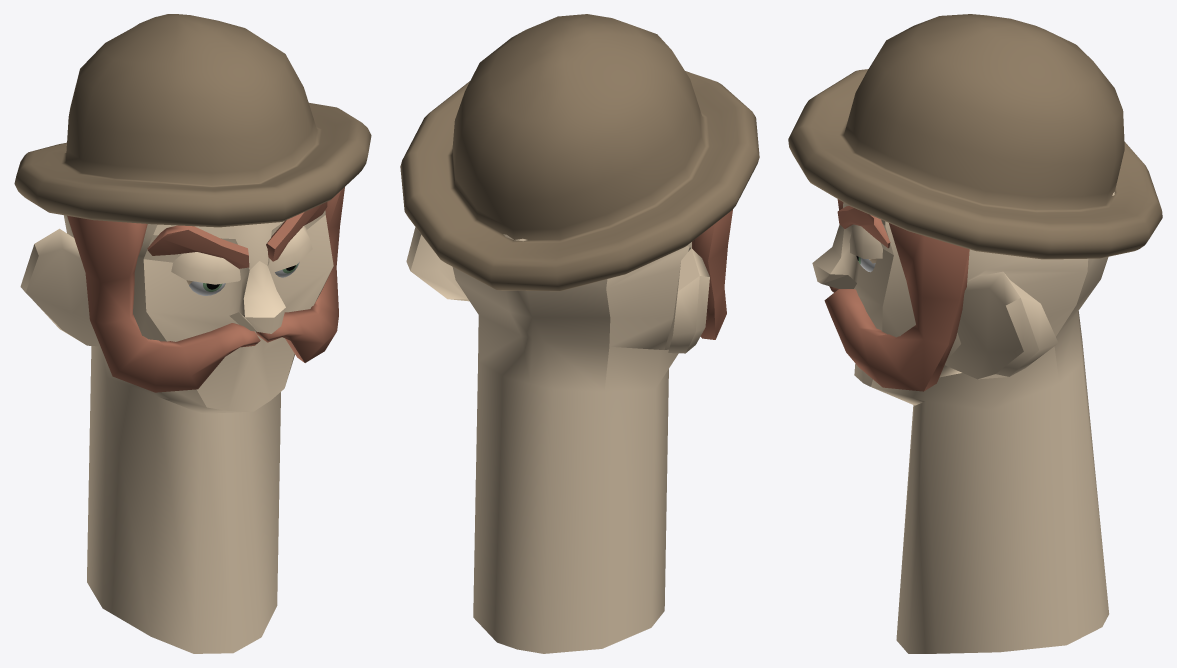
File: Cliente2_head.fbx
3 renders of one model, left to right at view 1: azimuth 30°, elevation 25°; view 2: azimuth 150°, elevation 25°; view 3: azimuth 270°, elevation 25°, orthographic. The views are drawn at different scales.
Parts seen in each view (by area): view 1: cliente2_head; view 2: cliente2_head; view 3: cliente2_head.
Part boxes in pixels (bbox=[...]): cliente2_head: bbox=[14, 14, 371, 653]; cliente2_head: bbox=[400, 14, 759, 653]; cliente2_head: bbox=[788, 14, 1162, 653].
Bounding box in the file's own units: 0.3502 × 0.6395 × 0.3517.
